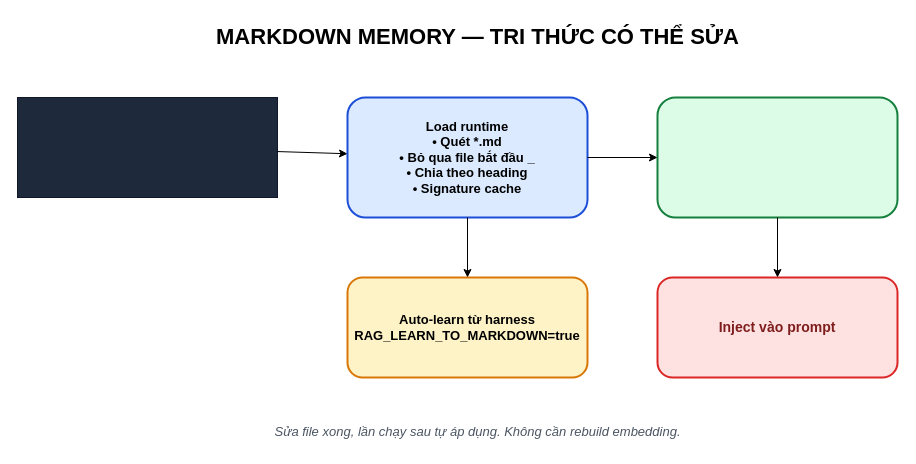
Image size: 916x464. Some labels were removed from this diagram. Here are the shapes that lost their labels. From the top down, the centre of each, then its label:
At point 147,147: "rag-memory/ feedback-generation-memory.md".
At point 777,157: "Gắn vào RAG store • Hybrid scoring • Markdown memory boost".
